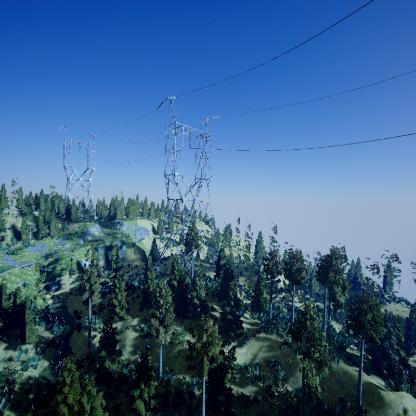tower: (156, 96, 223, 277), (58, 122, 102, 222)
